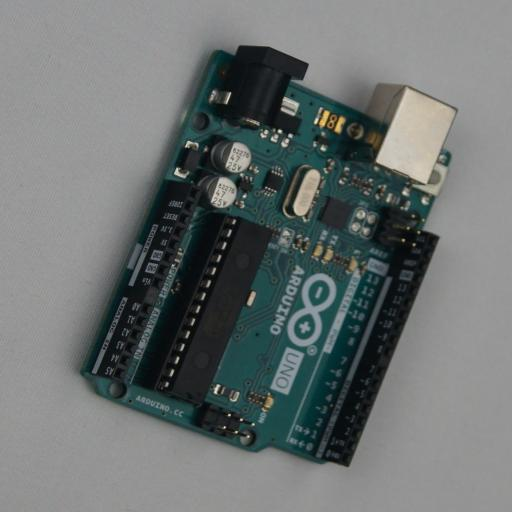Arduino Uno -Green-: (74, 45, 458, 467)
